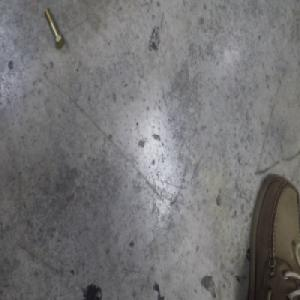Bolt: (44, 8, 65, 51)
